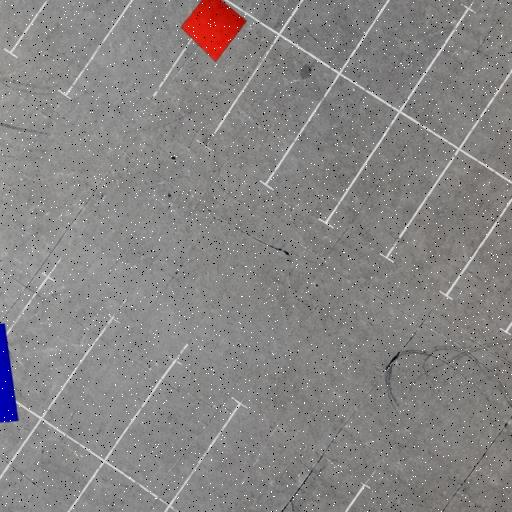RED_SQUARE: (180, 0, 247, 62)
